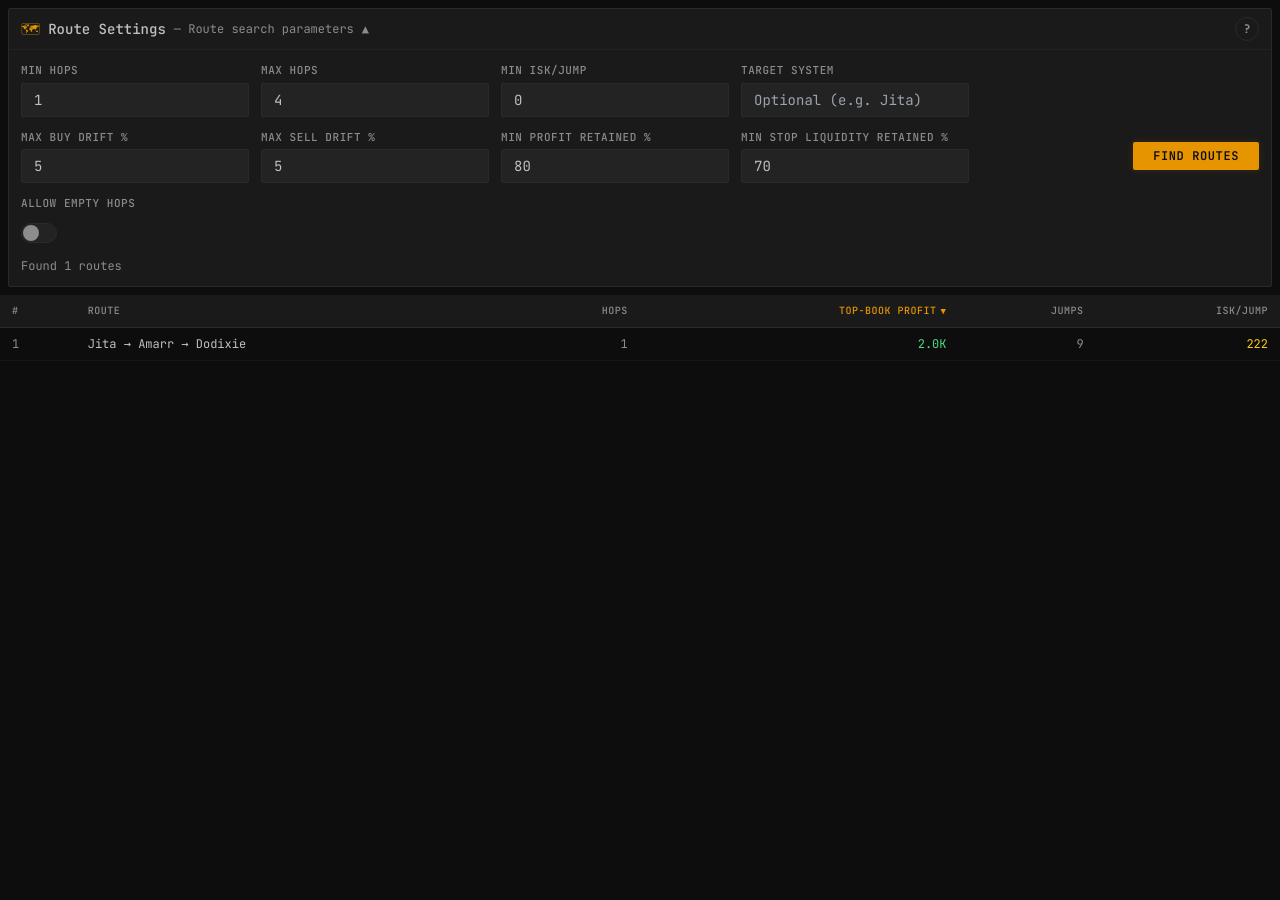
Test: RouteBuilder planner interactions › preserves selected route context when planner closes and reopens
Double-click the row with test id "route-result-row-0" at [640, 344], box top-left (0, 327), bottom-right (1279, 360)
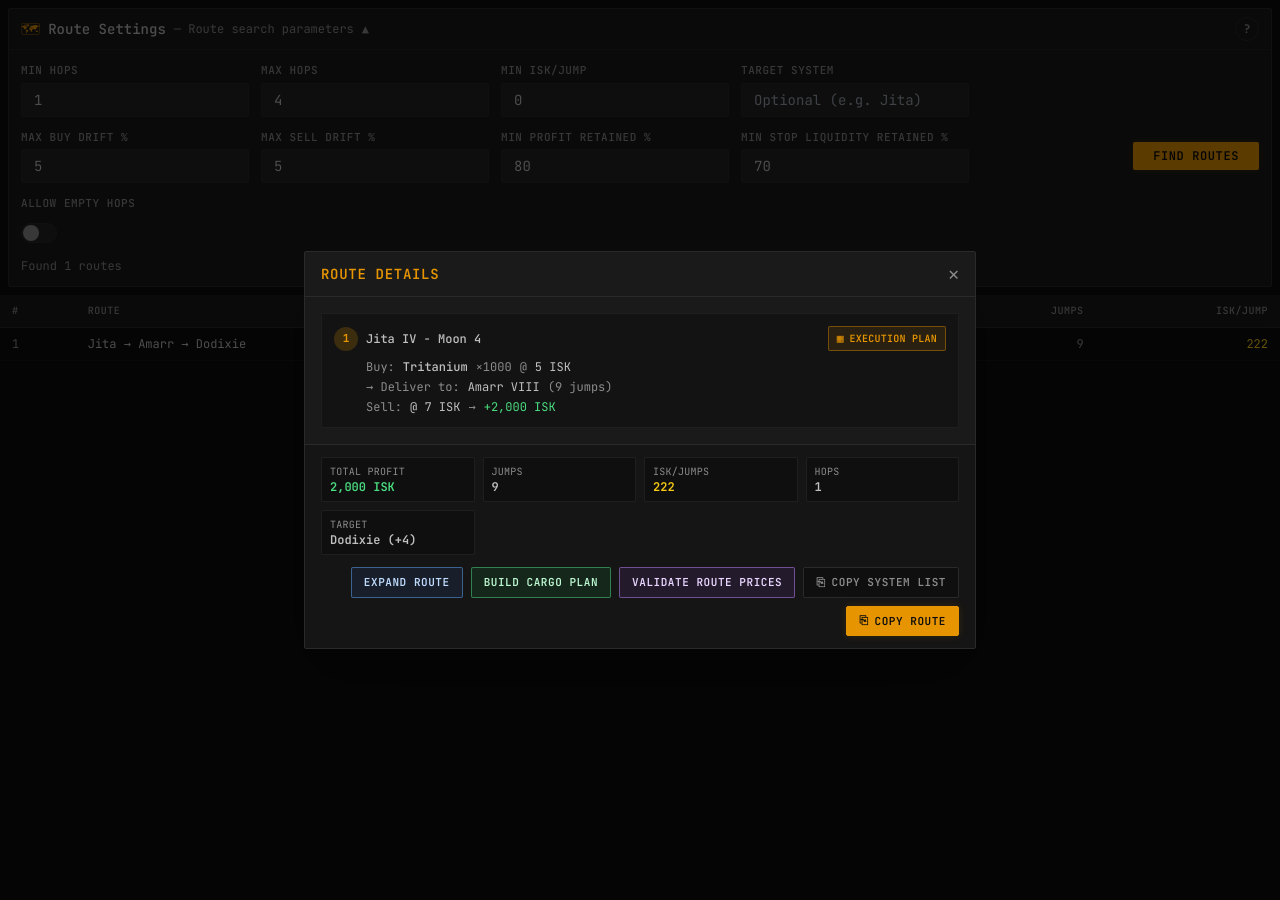
Click the button with test id "route-planner-cta-cargo" at [541, 582], box top-left (471, 567), bottom-right (611, 598)
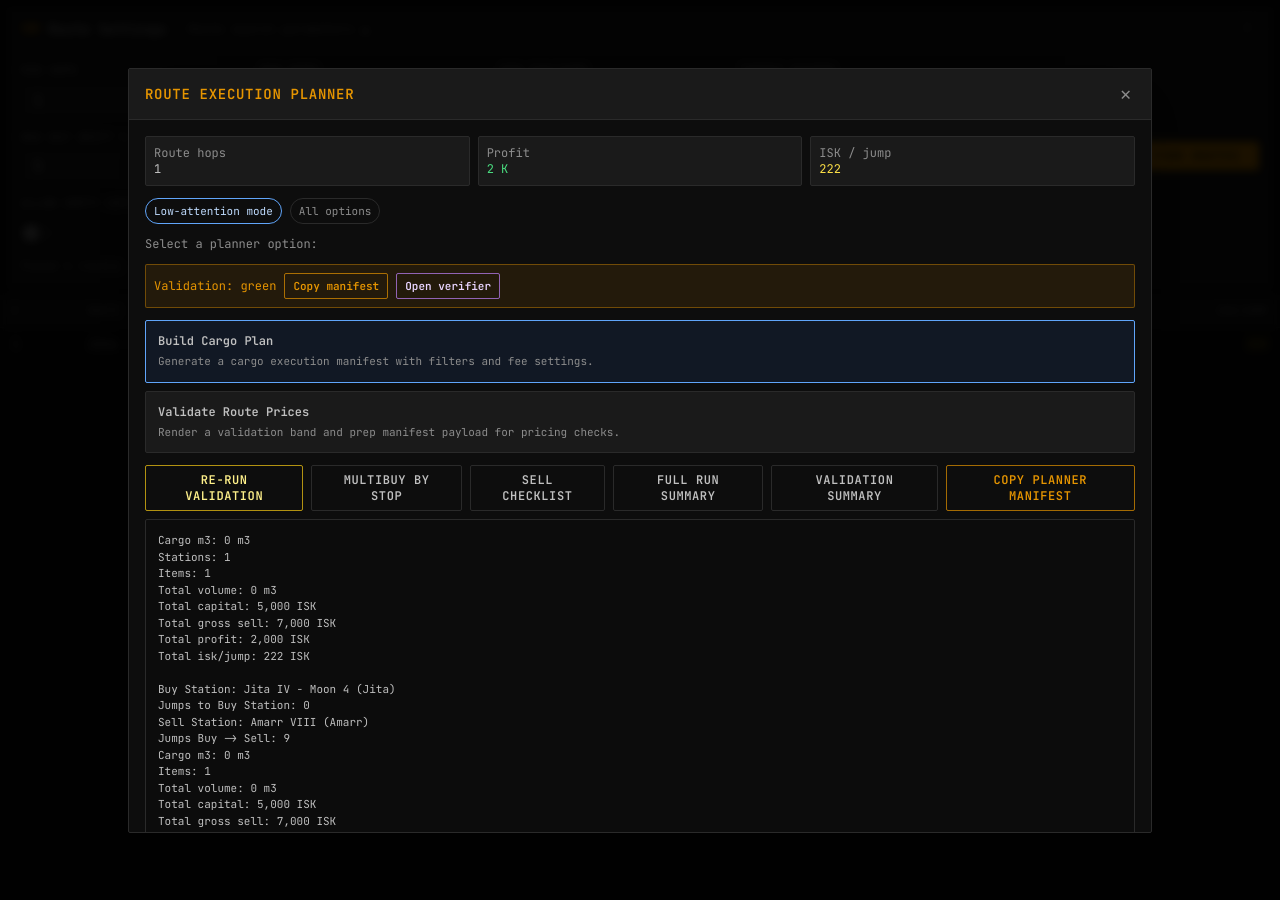
Check: the element with test id "route-execution-planner" is shown
Check: the text "Route hops" is shown, box top-left (154, 144), bottom-right (226, 160)
Click the button named "Close dialog" at [1126, 94], box top-left (1116, 80), bottom-right (1135, 106)
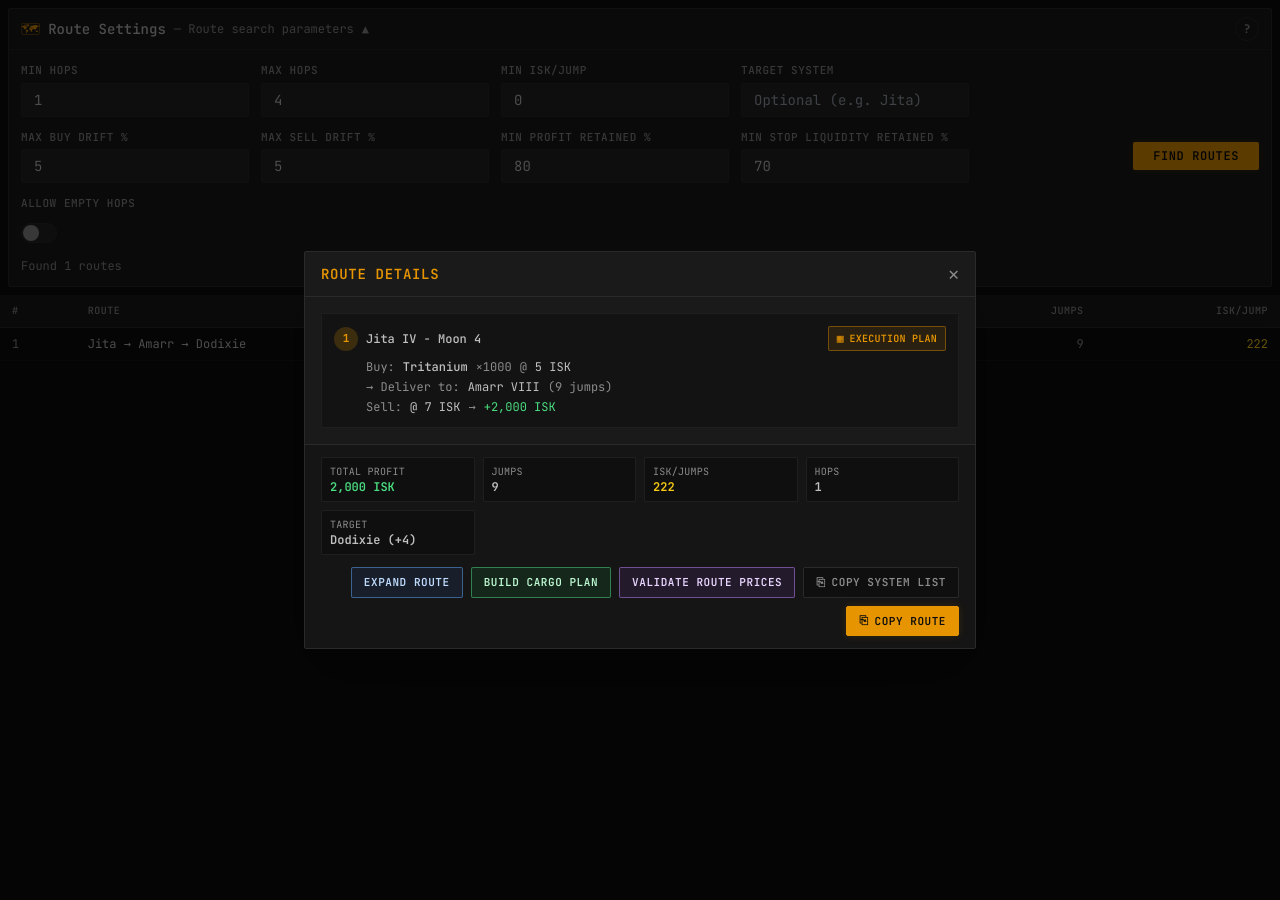
Click the button with test id "route-planner-cta-expand" at [407, 582], box top-left (351, 567), bottom-right (463, 598)
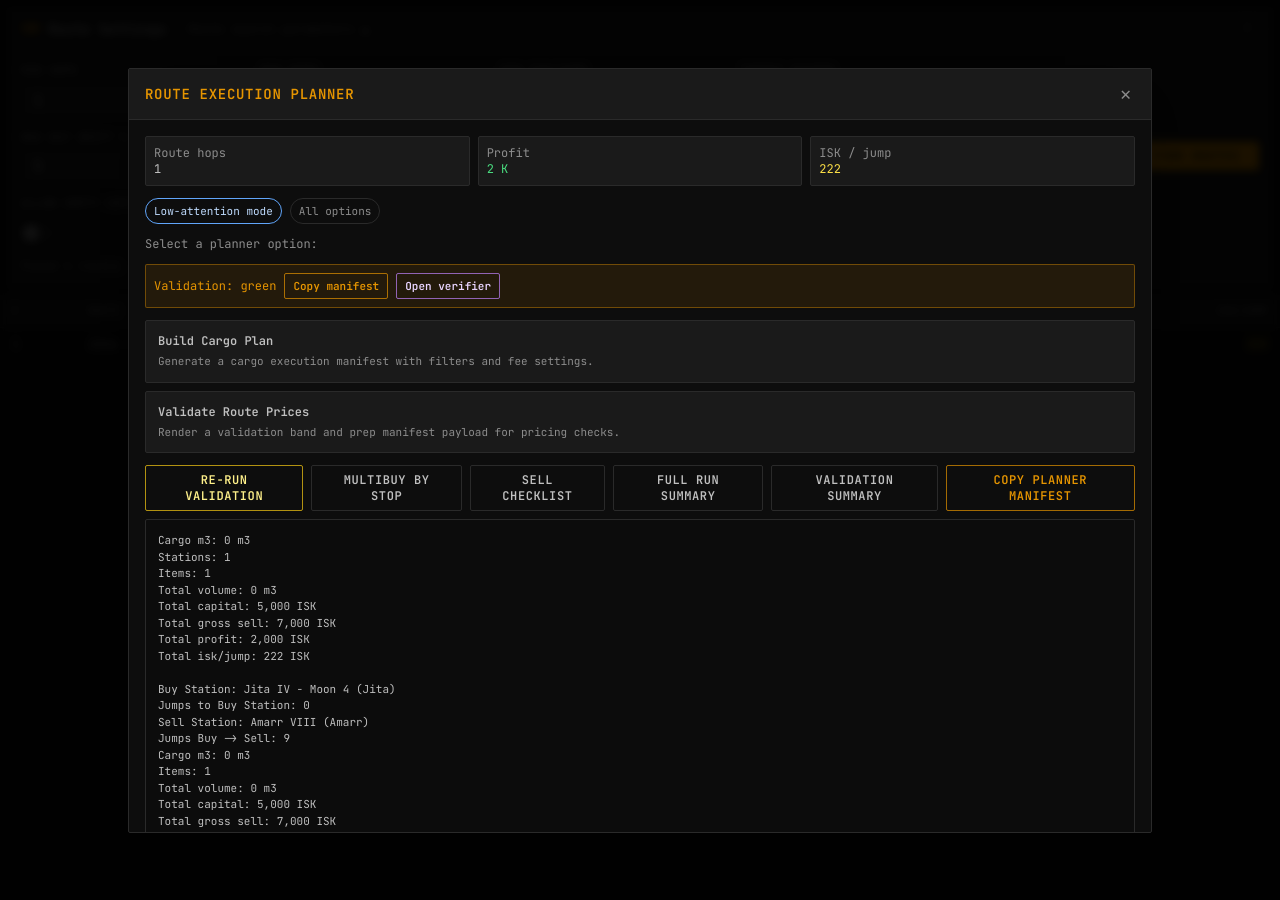
Check: the row with test id "route-result-row-0" shows "Jita", box top-left (88, 336), bottom-right (246, 352)
Check: the element with test id "route-execution-planner" is shown
Check: the text "Route hops" is shown, box top-left (154, 144), bottom-right (226, 160)
